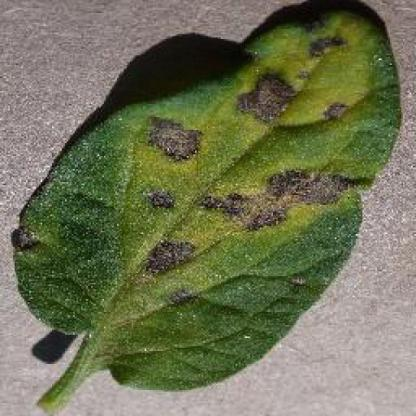Tomato_Blight: (12, 1, 398, 390)
